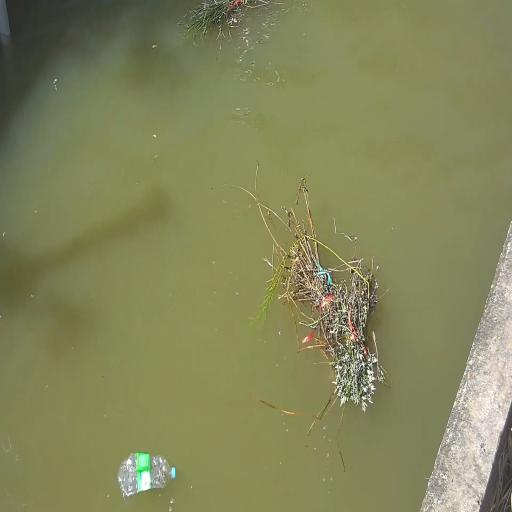plastic: (118, 453, 175, 497)
twig: (243, 177, 387, 411), (186, 0, 280, 44)
